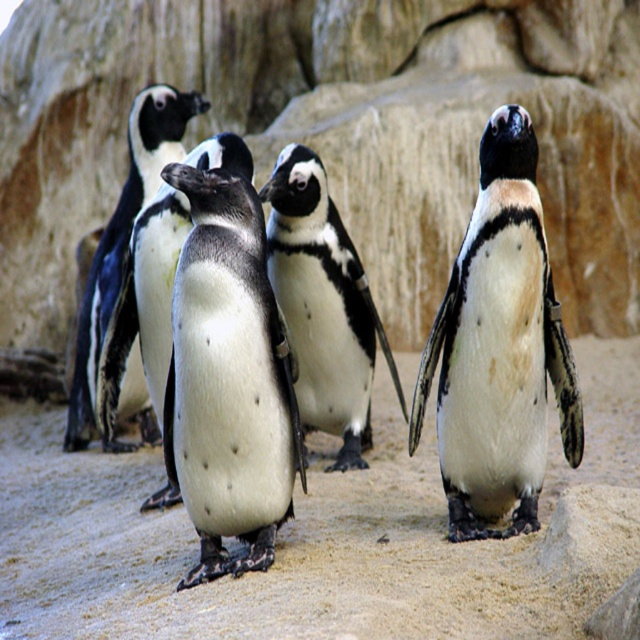Penguin: (63, 84, 584, 592)
